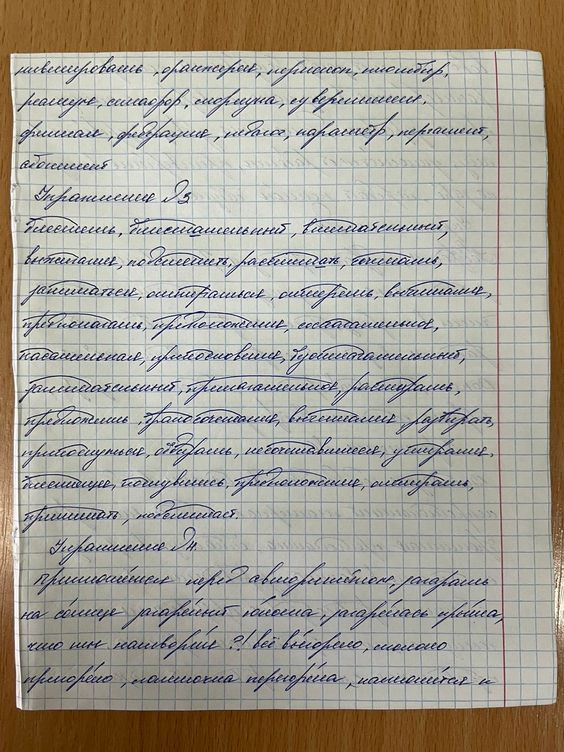page: (13, 54, 547, 708)
